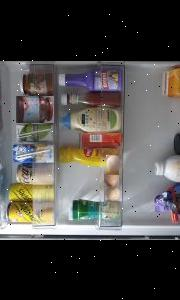Huevos: (104, 185, 122, 201), (106, 154, 119, 174), (104, 170, 119, 186)
